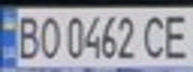0: (63, 12, 84, 60)
2: (115, 11, 142, 61)
4: (81, 11, 103, 61)
6: (100, 11, 121, 61)
B: (12, 11, 42, 61)
C: (139, 11, 172, 61)
E: (160, 10, 193, 60)
O: (36, 12, 63, 60)
